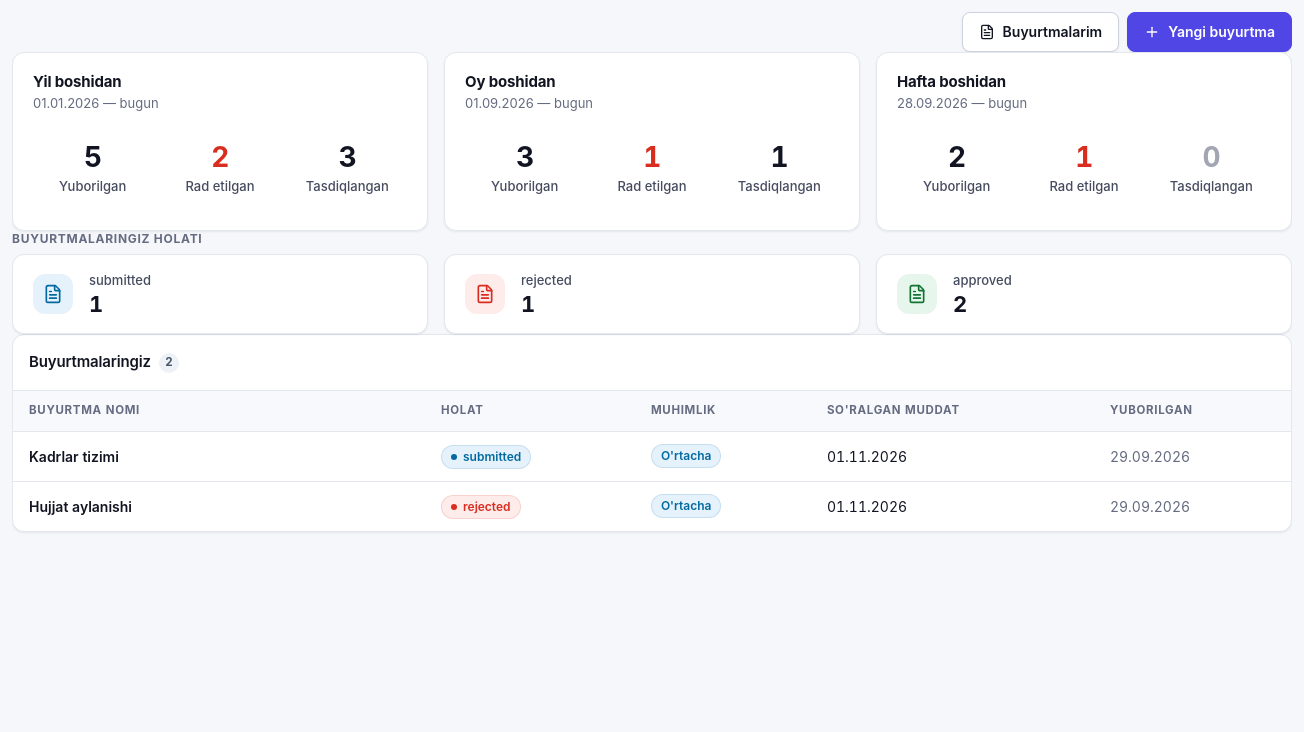
DepartmentHome › o'z buyurtmalari va holat kartalari chiqadi, qo'shimcha eslatma yo'q
The width and height of the screenshot is (1304, 732).
Expected: the text "Kadrlar tizimi" is shown, x1=29 y1=448 x2=119 y2=464
Expected: the text "Hujjat aylanishi" is shown, x1=29 y1=498 x2=132 y2=514
# "Tasdiqlangan" kartasi loyihaga aylanganlarni ham ko'rsatadi (soni bilan mos)
Click the button "approved 2" at (917, 294), box x1=876 y1=254 x2=1292 y2=334
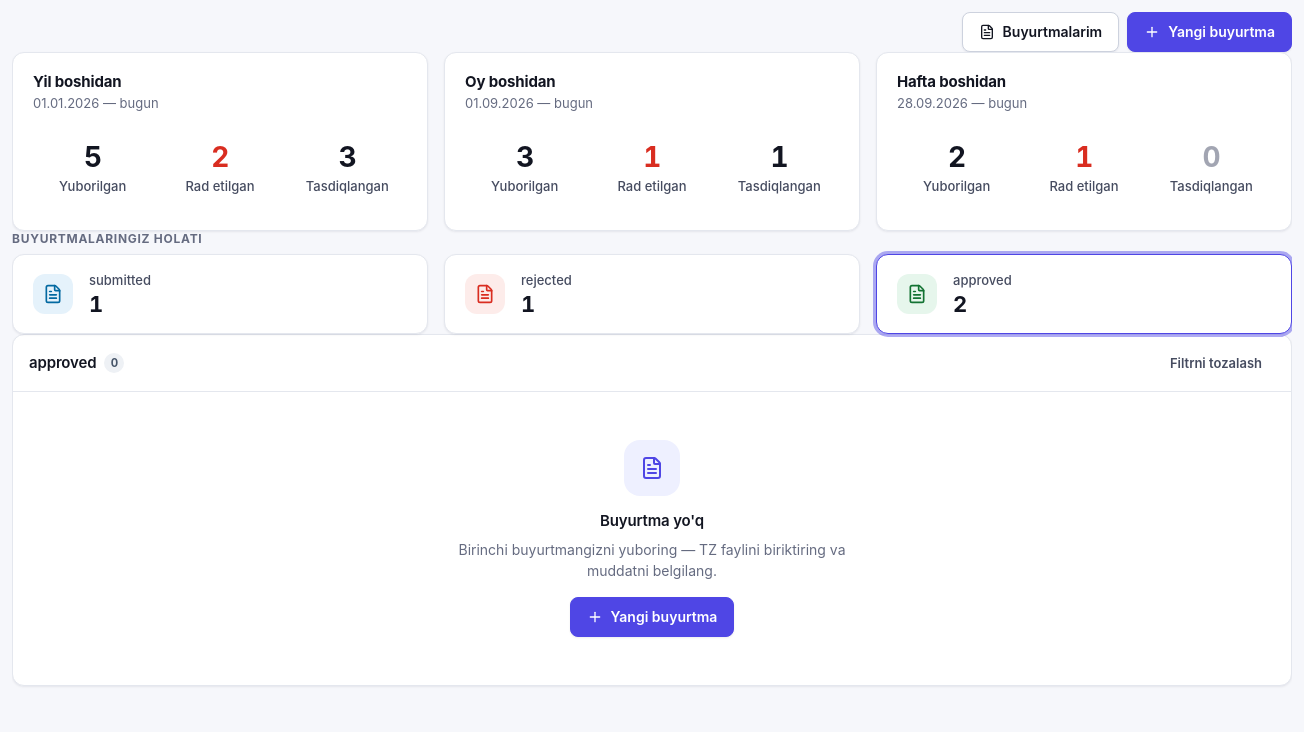
Expected: the heading "Buyurtma yo'q" is shown, x1=600 y1=512 x2=704 y2=531
